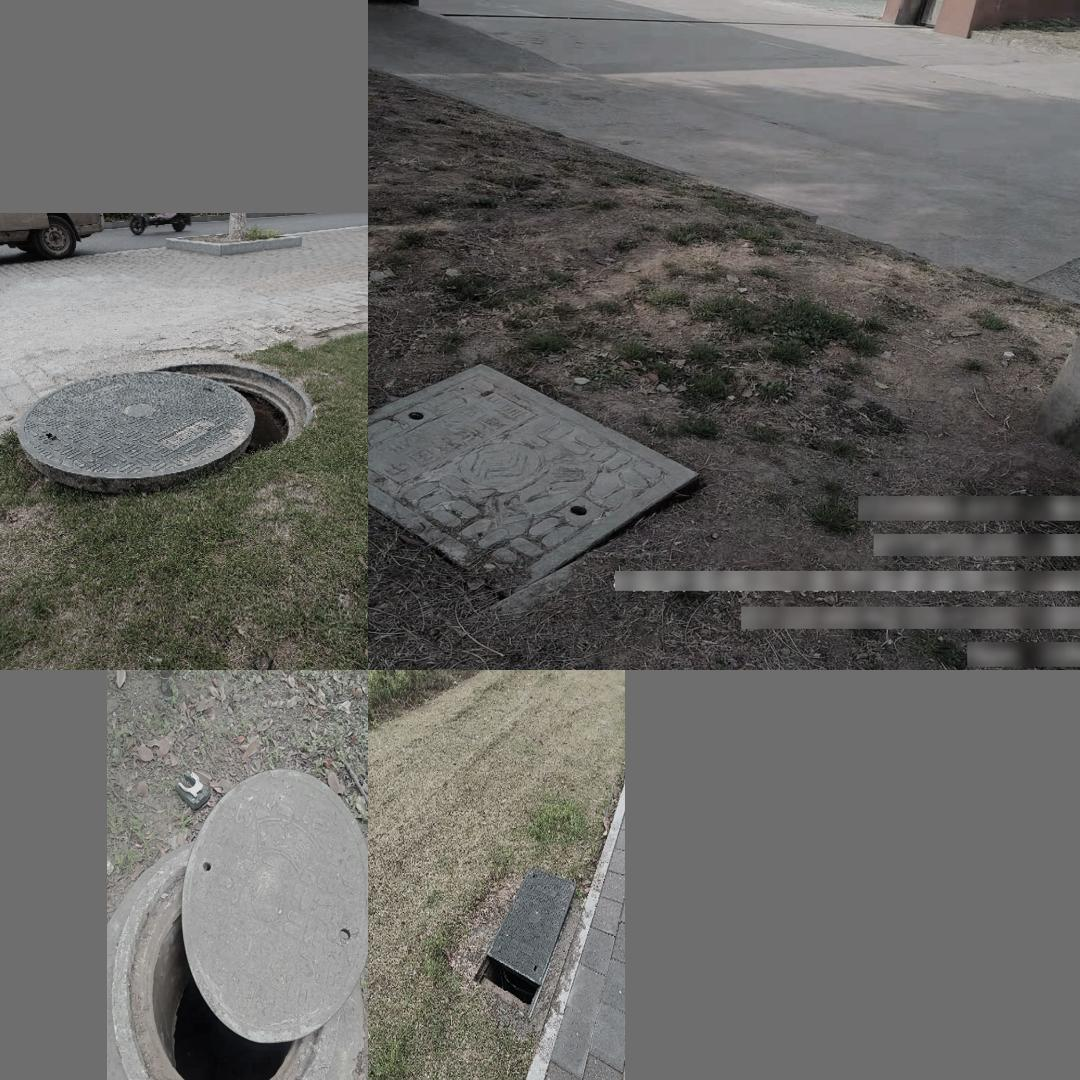uncovered: (106, 767, 367, 1080), (368, 364, 706, 595), (19, 361, 314, 495), (471, 866, 576, 1017)
